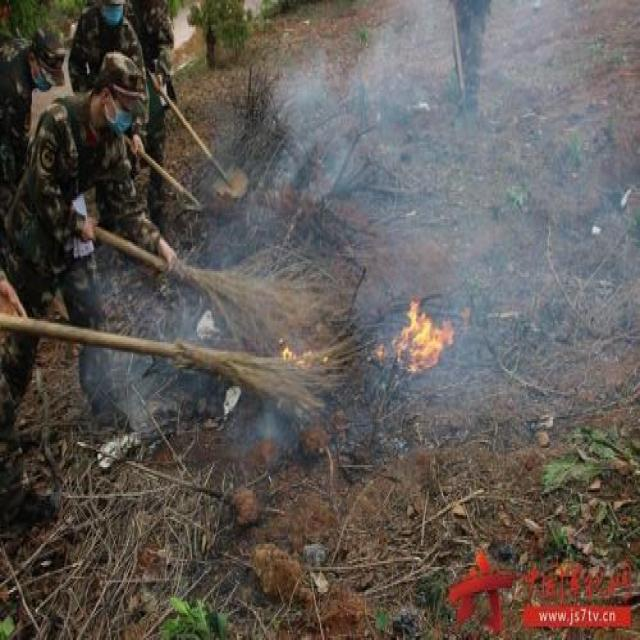fire: (375, 285, 450, 385), (273, 335, 327, 376)
other: (448, 523, 628, 626)
smoke: (295, 70, 325, 124)
